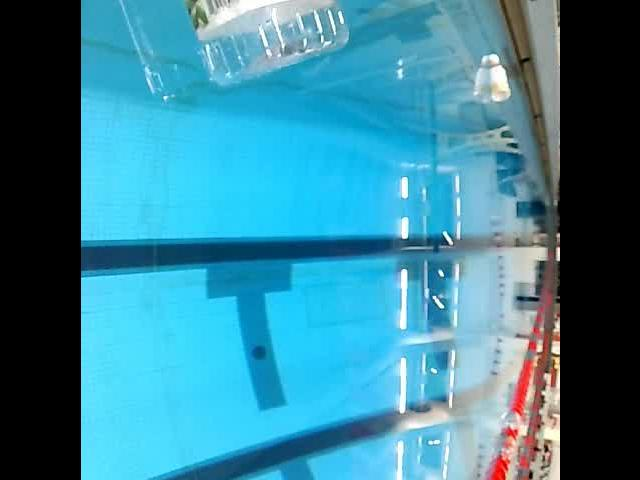Bottle: (148, 0, 352, 94), (480, 48, 514, 110)
